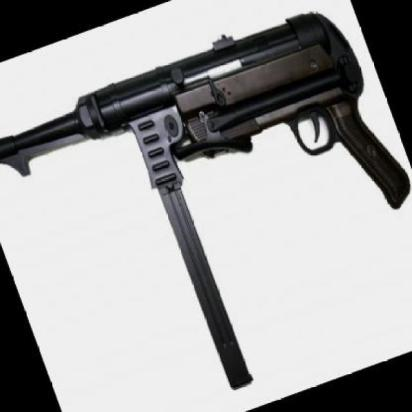Gun: (0, 1, 412, 213)
